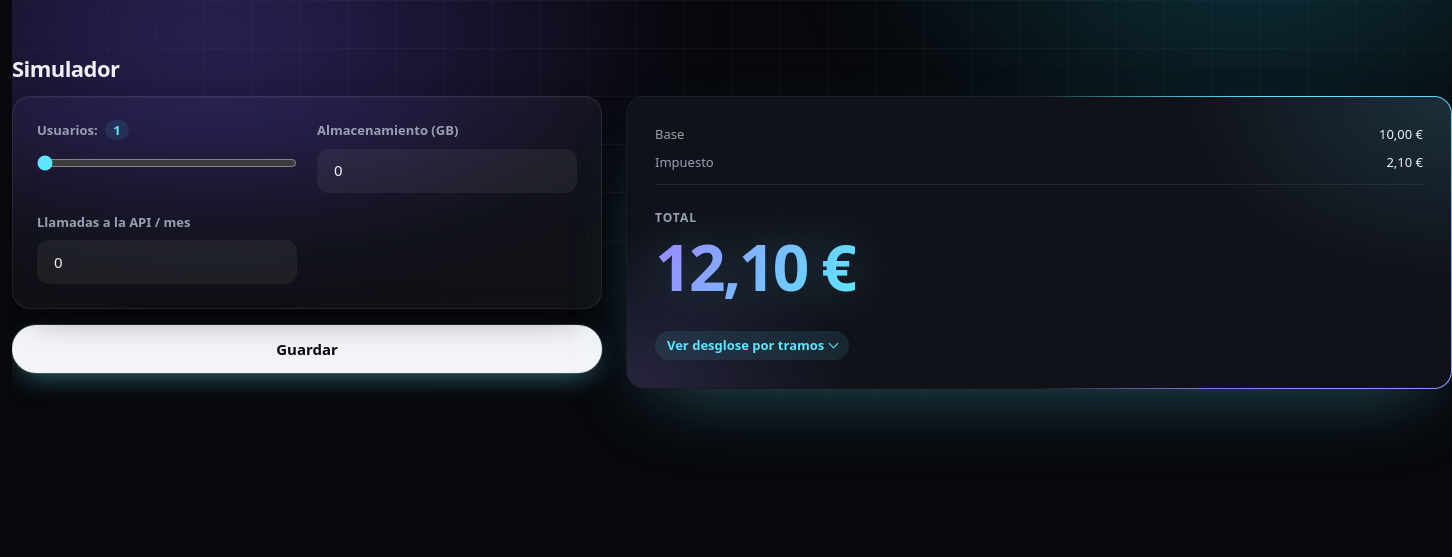
Test: Simulator › si falla un preview posterior, mantiene la proyección anterior con un aviso
Set the slider labelled "Usuarios: 1" to "15" at (52, 163), box x1=37 y1=149 x2=297 y2=177
Wait 250 ms
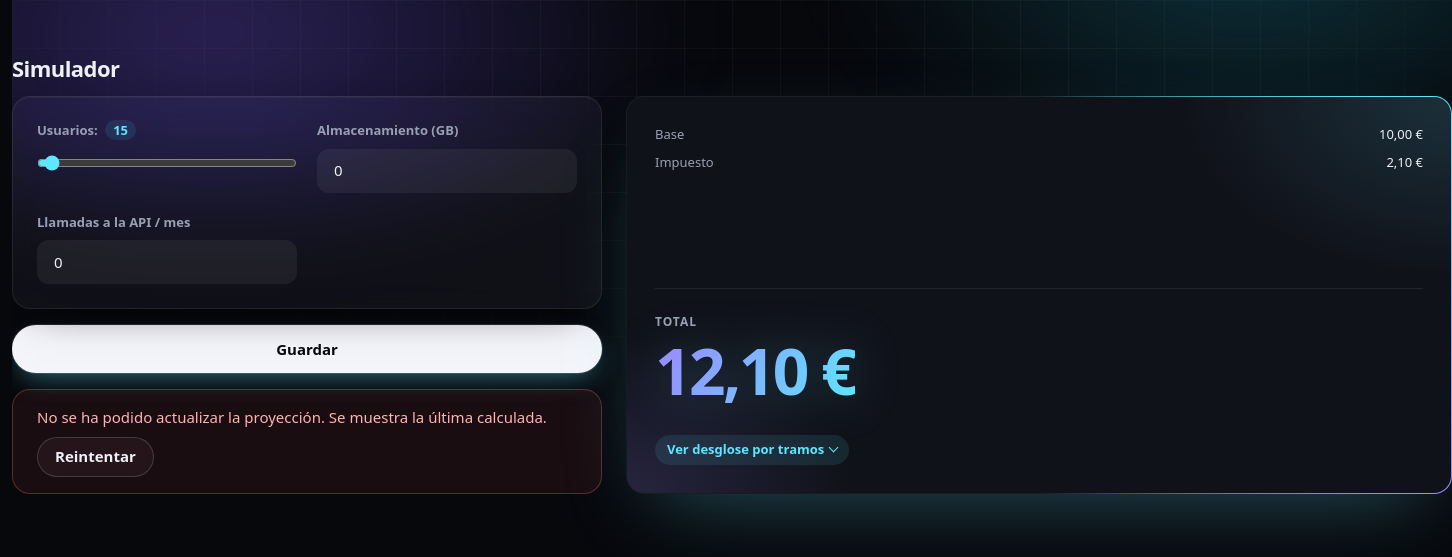
Result: the text "No se ha podido actualizar la proyección. Se muestra la última calculada." is shown at x1=37 y1=407 x2=547 y2=427
Click the button "Reintentar" at (95, 457), box x1=37 y1=437 x2=154 y2=477
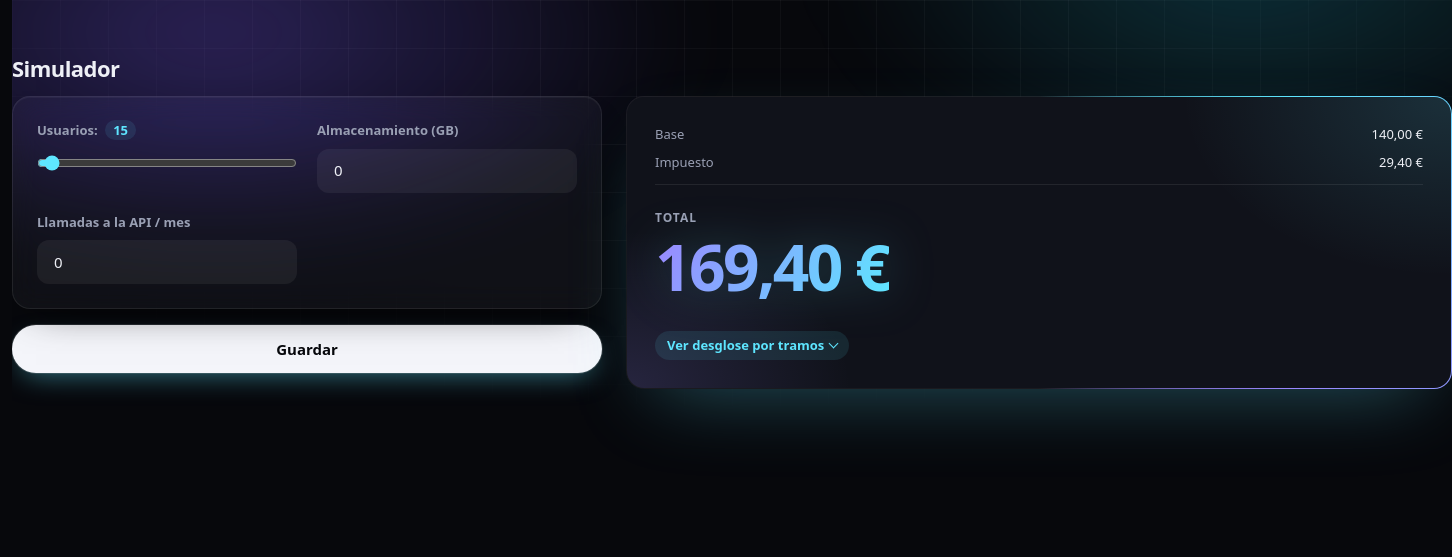
Result: the text "No se ha podido actualizar la proyección. Se muestra la última calculada." is gone
